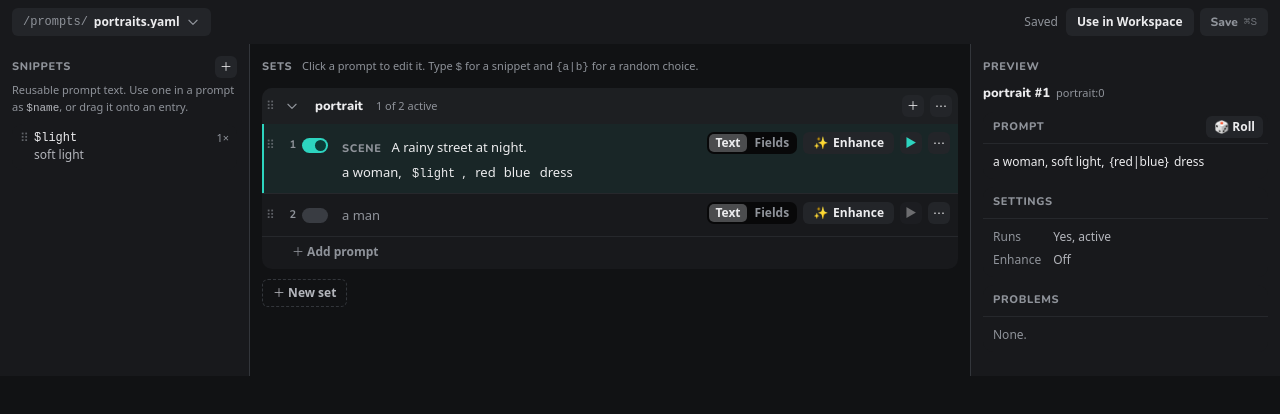
Scenario: PromptsPage › scene › removes a scene again with the same action
The width and height of the screenshot is (1280, 414).
Expected: the number of elements with test id "entry-scene" is 1, left=342, top=138, right=527, bottom=156
Step 1. Click the button named "Prompt actions" → point(939, 143), box left=928, top=132, right=950, bottom=154
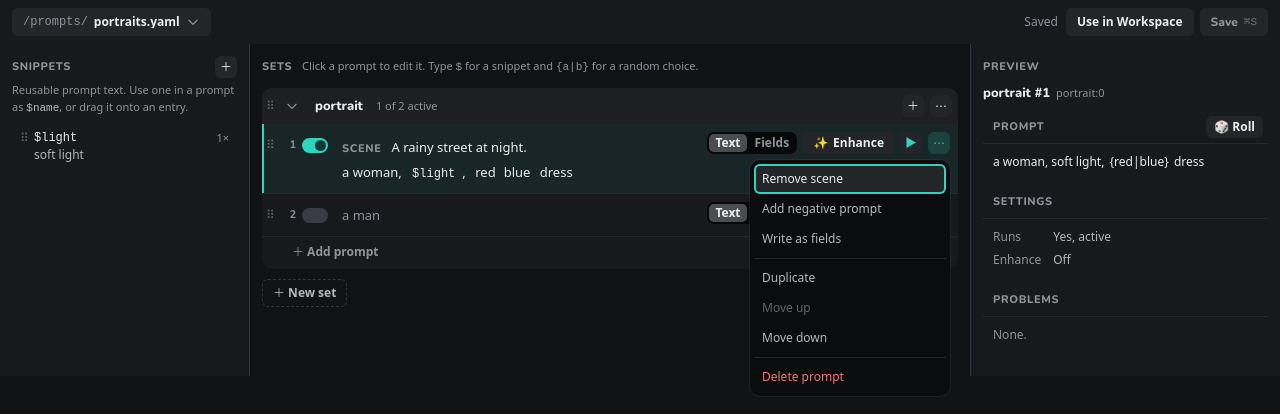
Step 2. Click the menu item "Remove scene" → point(850, 179), box left=754, top=164, right=946, bottom=194
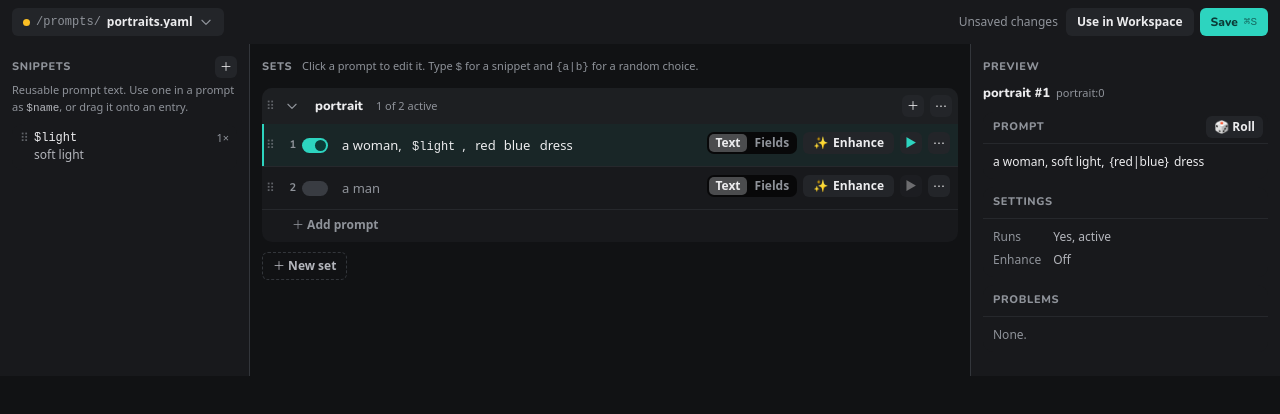
Now the element with test id "entry-scene" is gone
Now the field named "Scene" is gone
